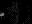person: (1, 11, 7, 17)
